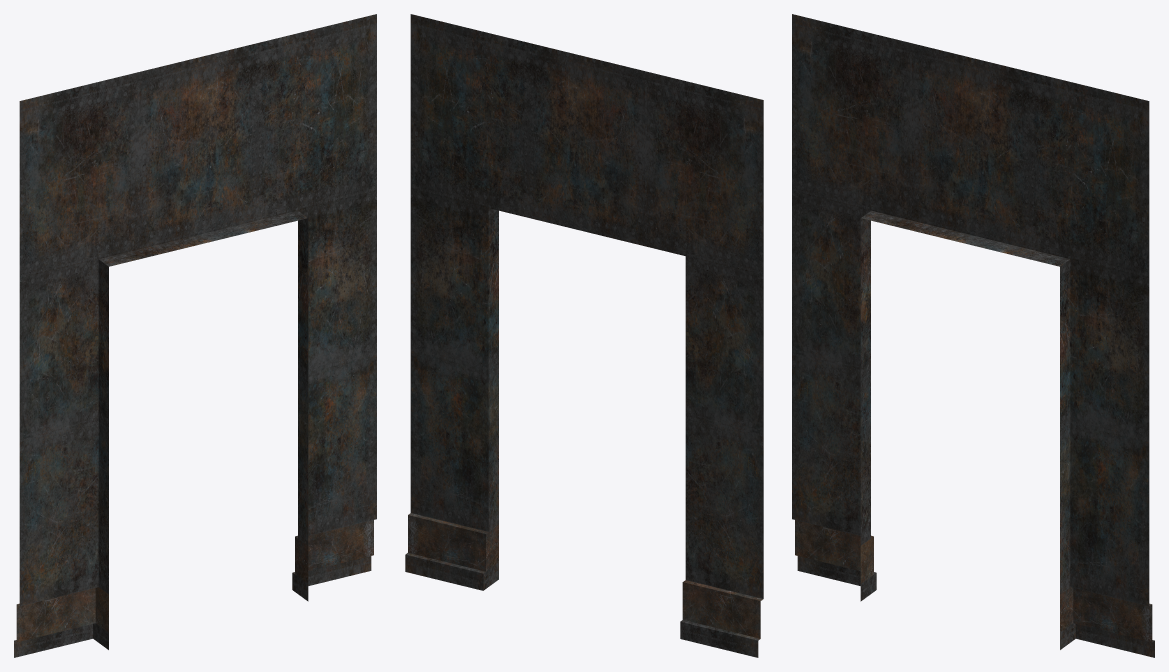
File: Basement_Corridor_C_Wall_2m_Door.glb
3 views of the same model, side by side, from view 1: azimuth 30°, elevation 25°; view 2: azimuth 150°, elevation 25°; view 3: azimuth 330°, elevation 25° (orthographic).
Parts seen in each view (by area): view 1: Basement_Corridor_C_Wall_2m_Door; view 2: Basement_Corridor_C_Wall_2m_Door; view 3: Basement_Corridor_C_Wall_2m_Door.
Part boxes in pixels (bbox=[...]): Basement_Corridor_C_Wall_2m_Door: bbox=[14, 14, 376, 657]; Basement_Corridor_C_Wall_2m_Door: bbox=[405, 14, 763, 657]; Basement_Corridor_C_Wall_2m_Door: bbox=[792, 14, 1154, 657].
Size of the model in its own units: 2 by 3 by 0.1532.
2 materials, 2 textured.
